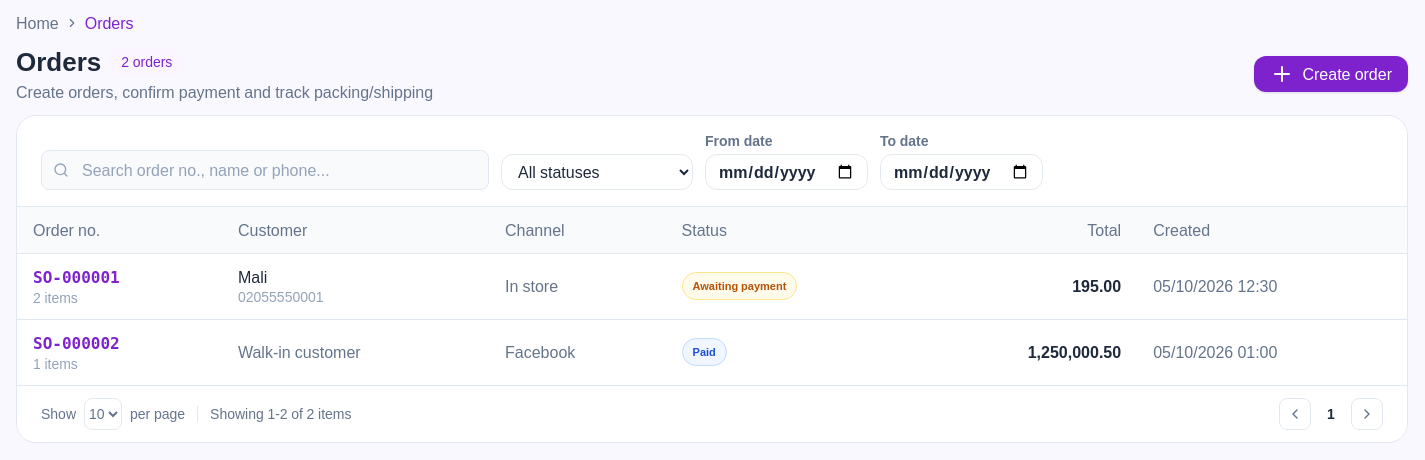
OrderList › ວັນທີເລີ່ມຫຼັງວັນທີສິ້ນສຸດ: ສະແດງ alert, ບໍ່ສົ່ງ request ໃໝ່, aria-invalid ຊີ້ໄປ alert
The image size is (1425, 460).
Expected: the row with test id "row-order-o1" is shown, x1=17 y1=253 x2=1407 y2=319
Type "2026-10-09" into the date field labelled "From date" at (786, 172), box x1=705 y1=154 x2=868 y2=190
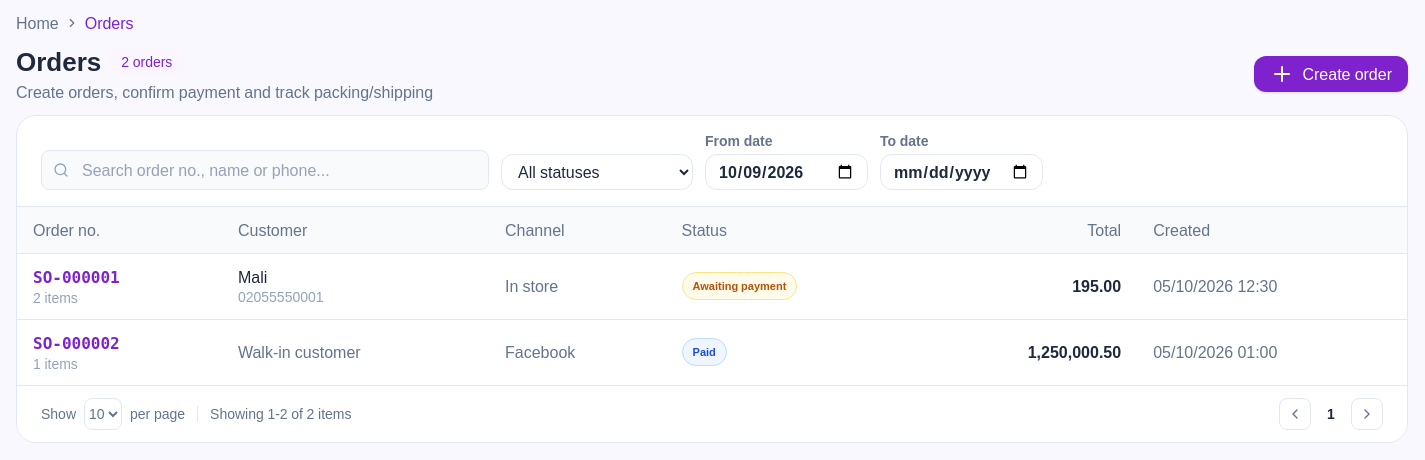
Type "2026-10-01" into the date field labelled "To date" at (962, 172), box x1=880 y1=154 x2=1043 y2=190
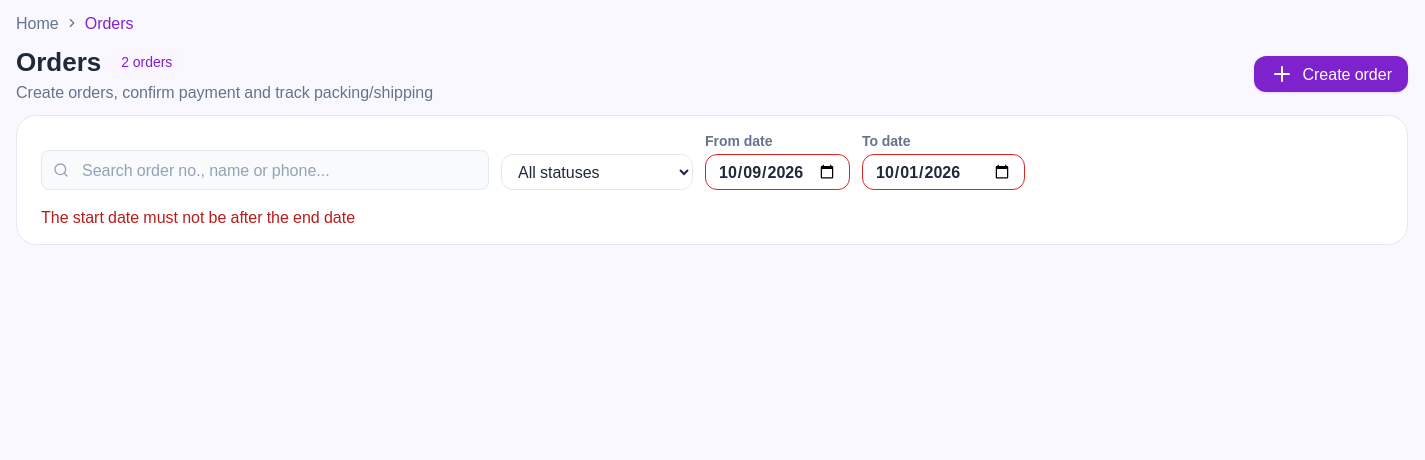
Expected: the message reads "The start date must not be after the end date", x1=41 y1=204 x2=355 y2=230
